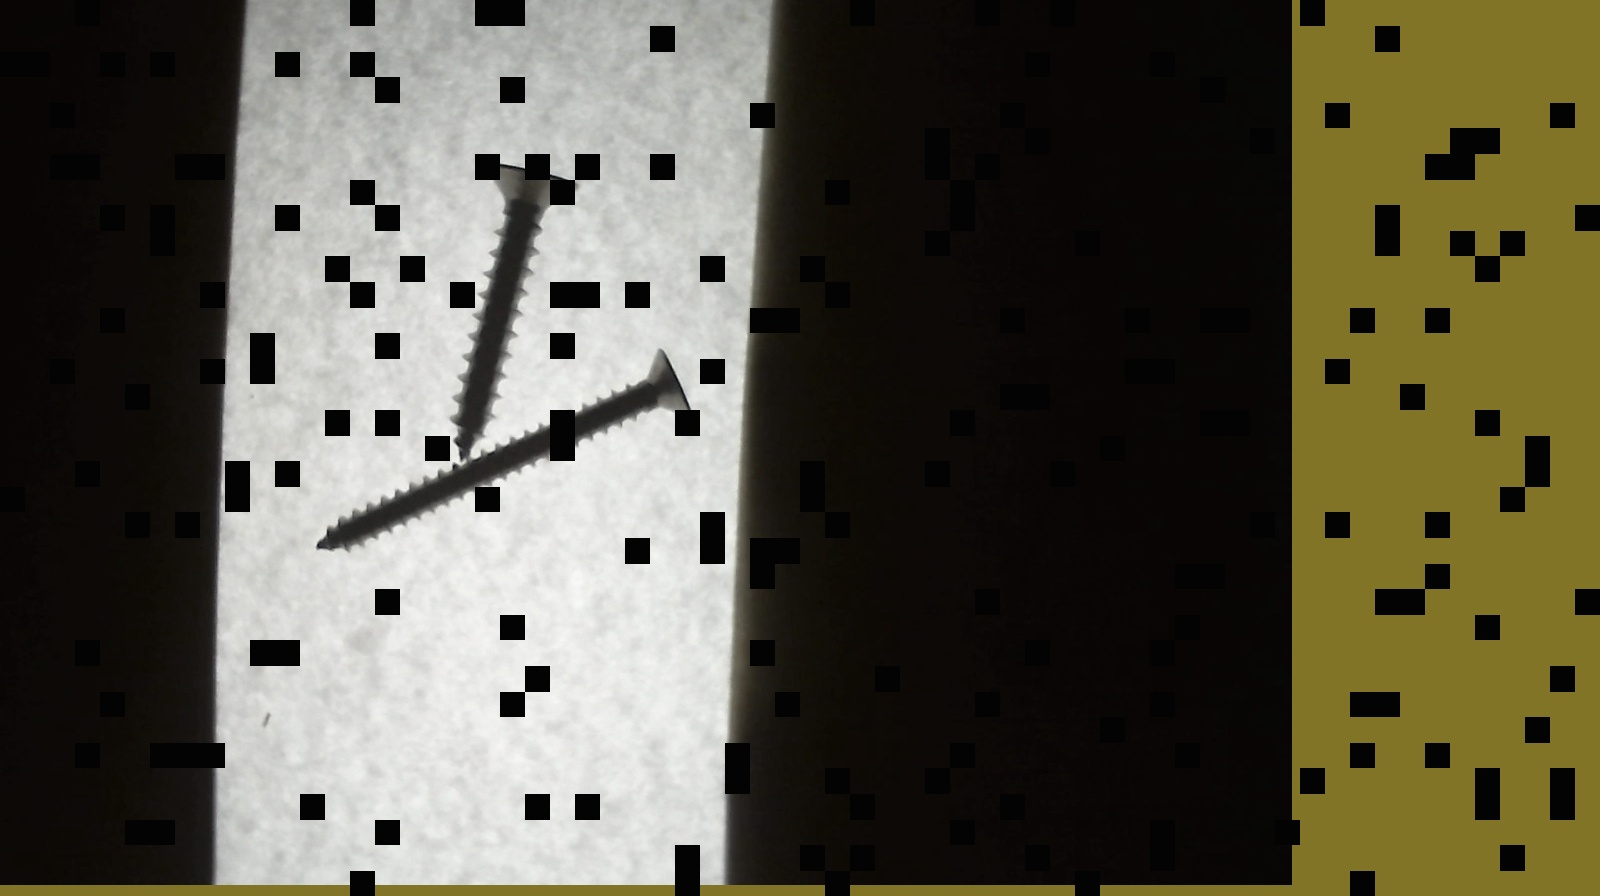S001: (438, 156, 582, 466)
S002: (313, 344, 700, 555)
